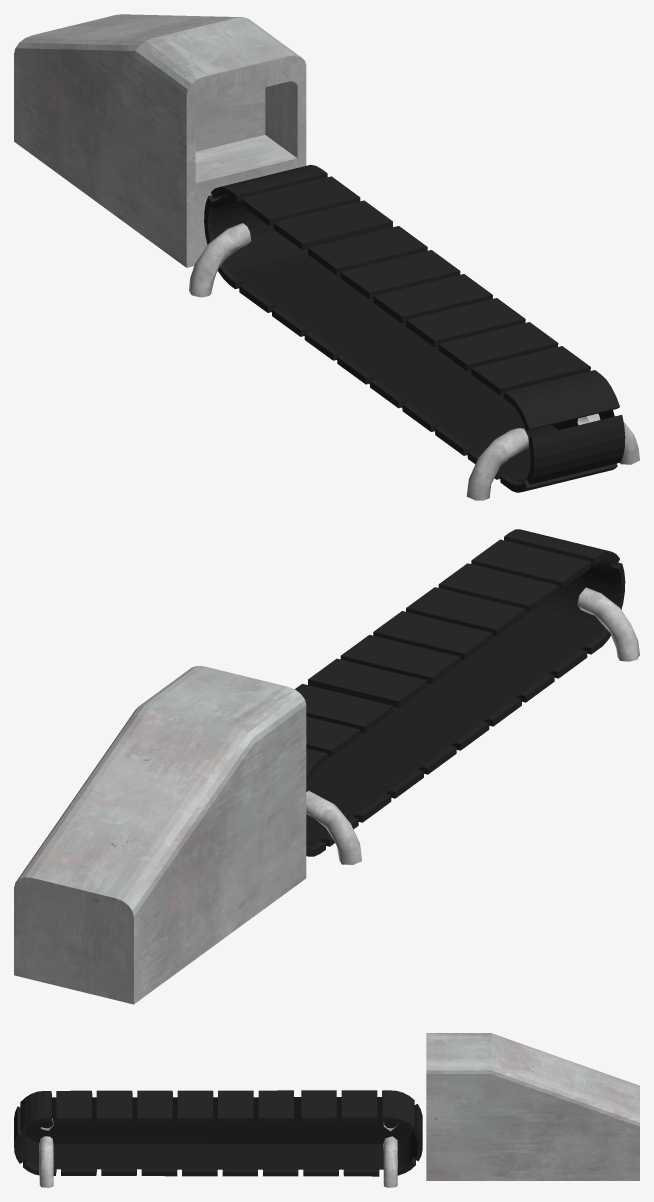
File: ConveyerBelt.glb
The picture shows the model from 3 angles, top to bottom: view 1: azimuth 30°, elevation 25°; view 2: azimuth 150°, elevation 25°; view 3: azimuth 270°, elevation 25°; orthographic projection. The views are drawn at different scales.
Parts seen in each view (by area): view 1: cb_box, cb_belts, cb_in, cb_pipe; view 2: cb_box, cb_belts, cb_in, cb_pipe; view 3: cb_box, cb_in, cb_belts, cb_pipe.
Part boxes in pixels (x1,y1,x2,y2): cb_box: (14, 14, 306, 267); cb_belts: (204, 164, 625, 492); cb_in: (211, 196, 614, 481); cb_pipe: (189, 223, 639, 500); cb_box: (14, 666, 306, 1004); cb_belts: (295, 529, 625, 856); cb_in: (306, 560, 616, 846); cb_pipe: (306, 587, 639, 864); cb_box: (426, 1033, 639, 1180); cb_in: (20, 1097, 416, 1169); cb_belts: (14, 1090, 422, 1176); cb_pipe: (39, 1118, 397, 1187).
Bounding box in the file's own units: 3.76 × 3.96 × 19.3.
Materials: 3 (1 with a texture image).
